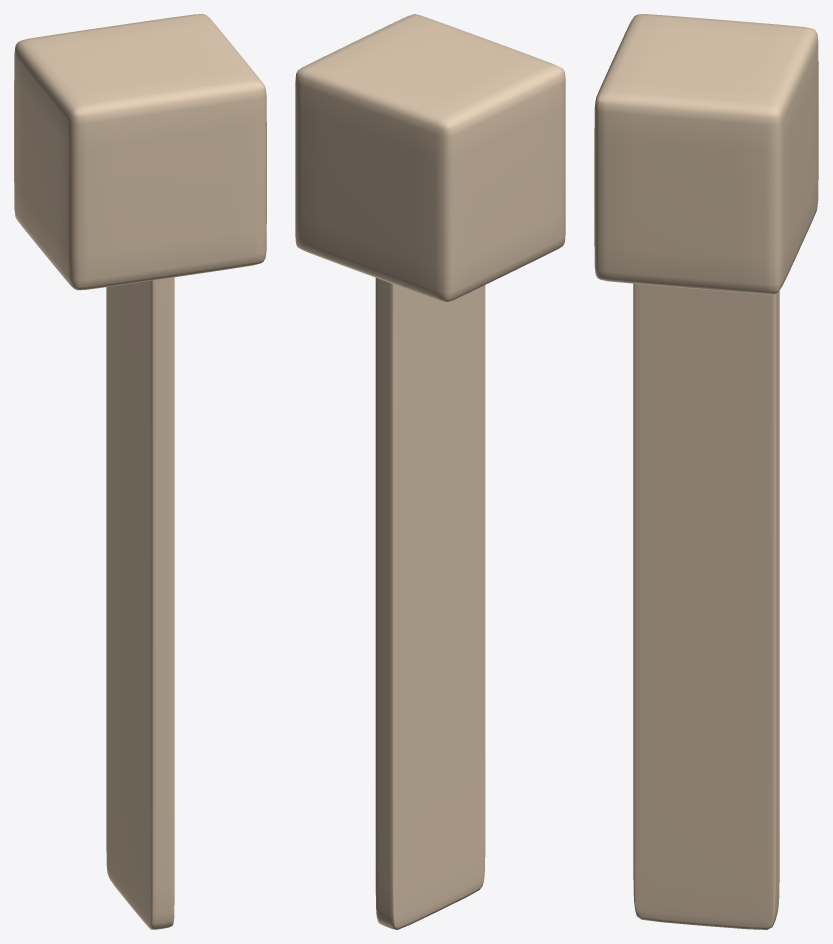
Rendered from PROP_PicnicTable_v1.glb.
3 views of the same model, side by side, from view 1: azimuth 30°, elevation 25°; view 2: azimuth 150°, elevation 25°; view 3: azimuth 270°, elevation 25° (orthographic). The views are drawn at different scales.
Parts seen in each view (by area): view 1: PROP_PicnicTable_v1; view 2: PROP_PicnicTable_v1; view 3: PROP_PicnicTable_v1.
Boxes of the visible parts, bbox=[...] form: PROP_PicnicTable_v1: bbox=[14, 14, 266, 929]; PROP_PicnicTable_v1: bbox=[295, 14, 565, 929]; PROP_PicnicTable_v1: bbox=[594, 14, 818, 929].
Size of the model in its own units: 1.19 by 4.69 by 1.11.
